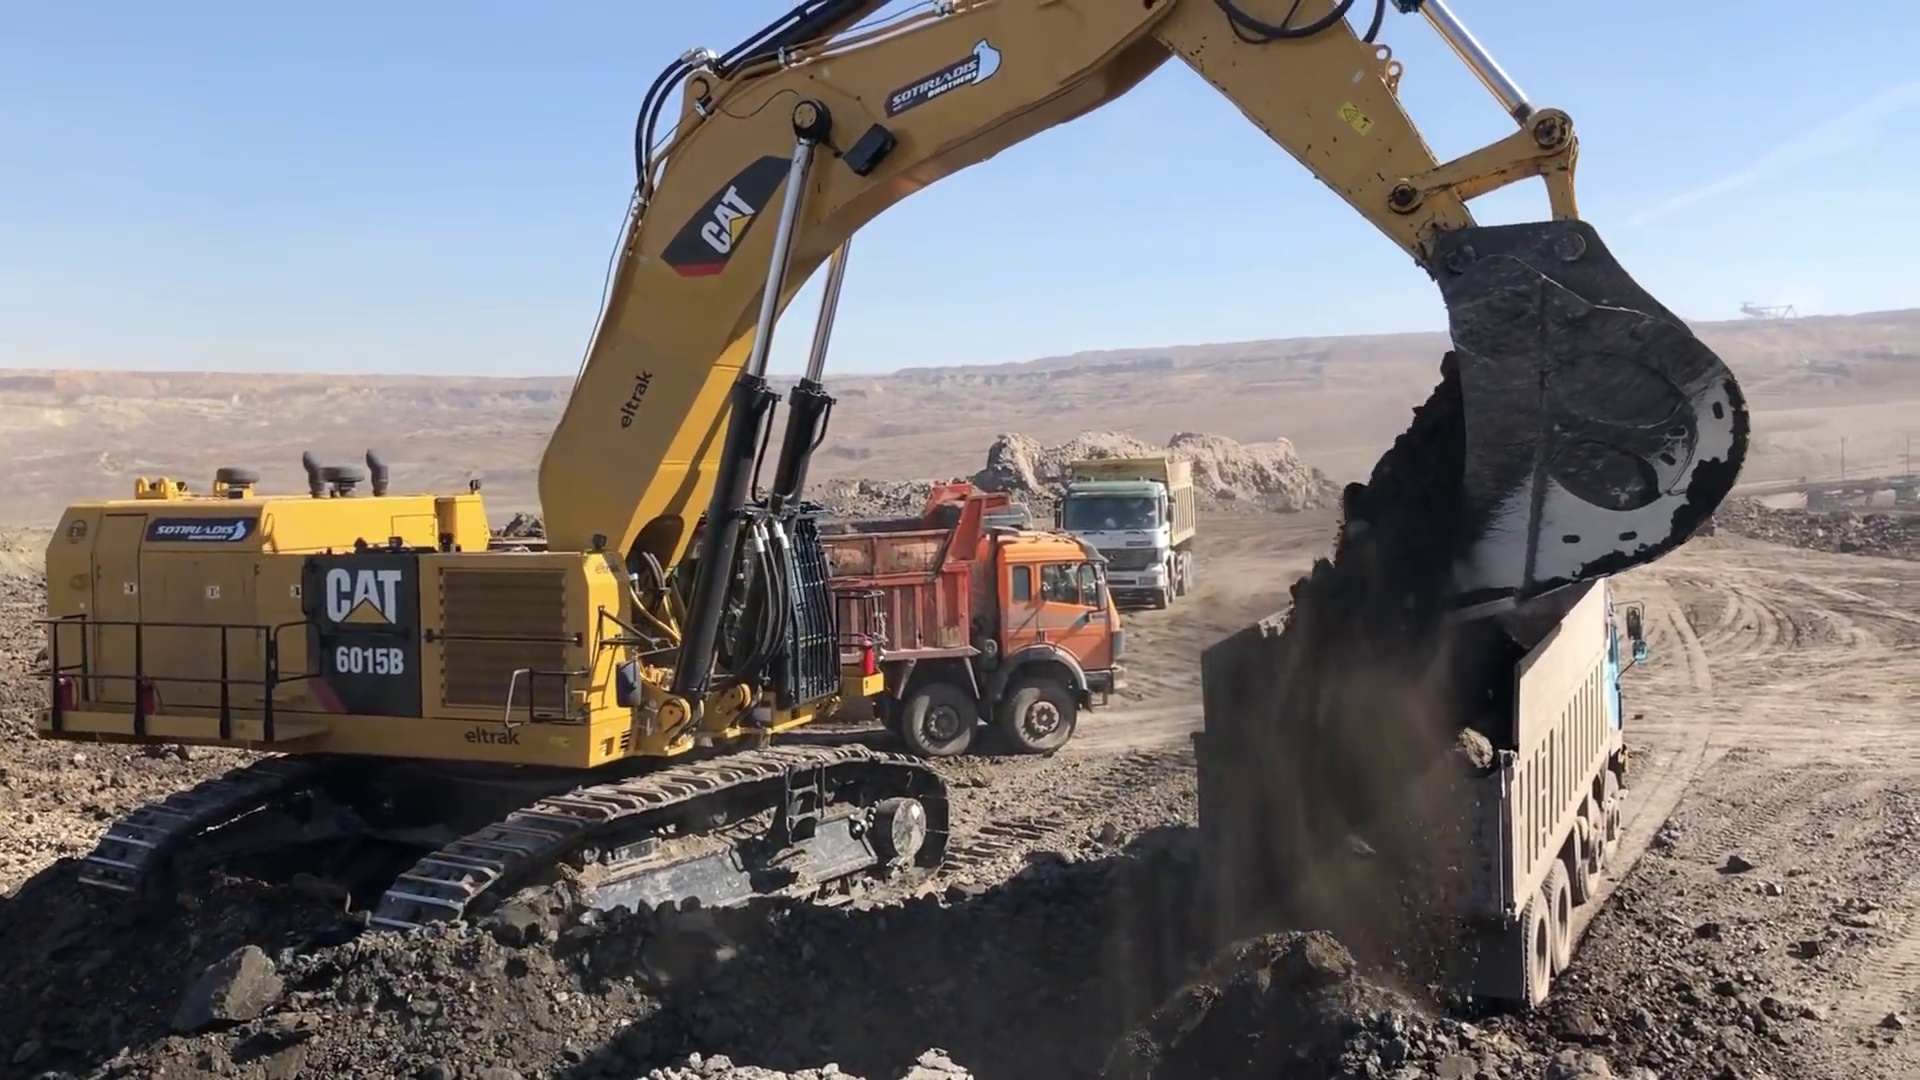excavator: (40, 1, 1753, 967)
truck: (1185, 582, 1640, 1014), (657, 487, 1121, 752), (1050, 451, 1196, 611)
